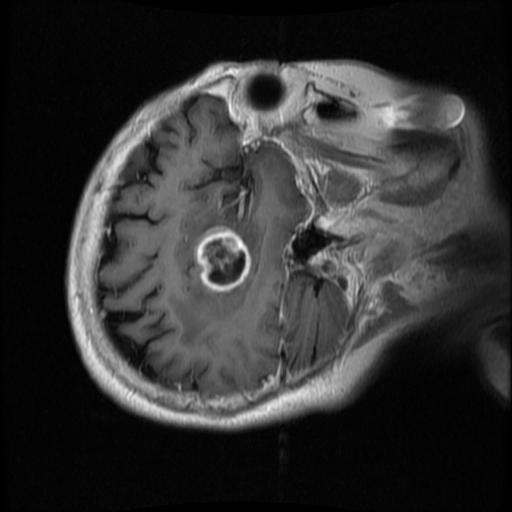glioma: (193, 225, 252, 293)
